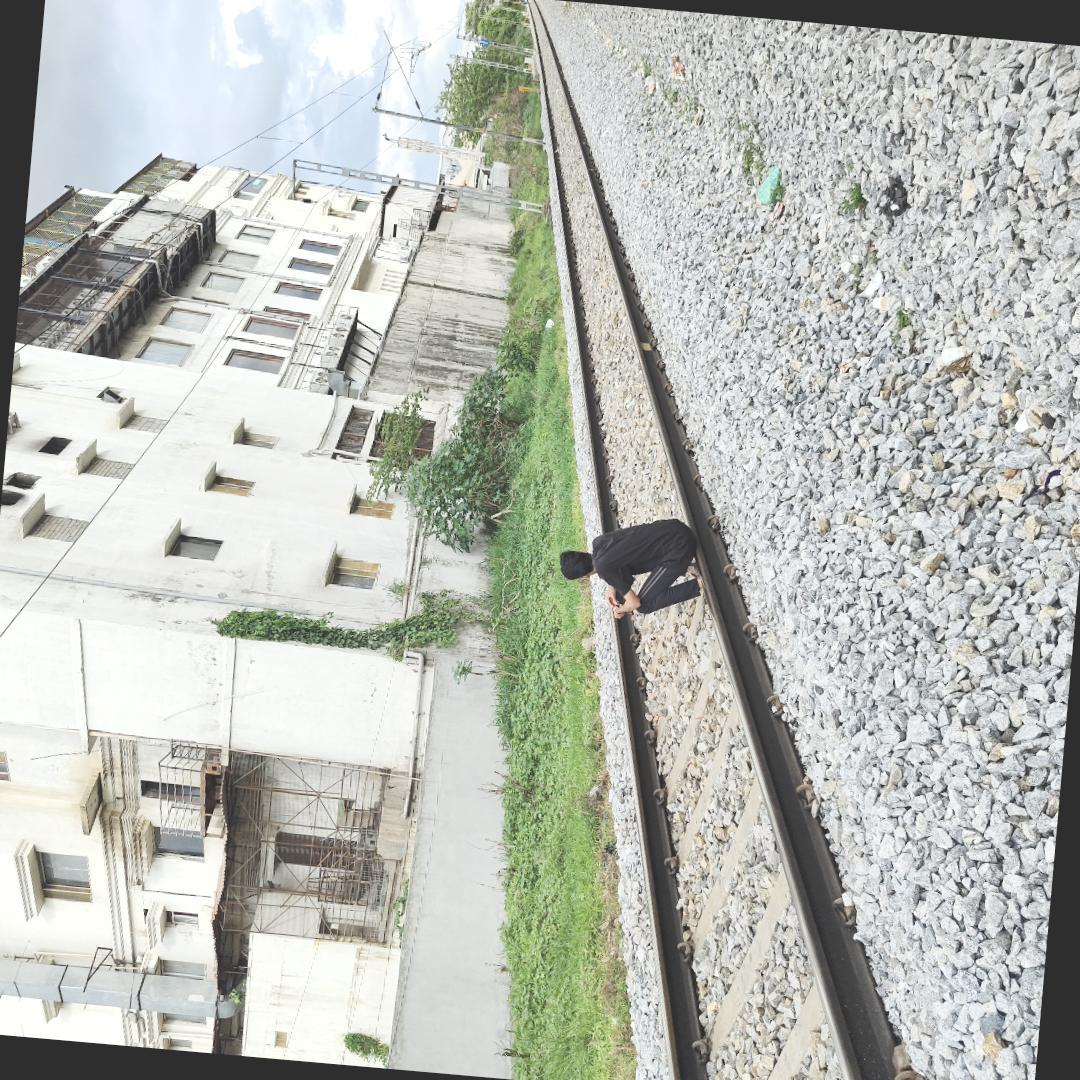sitting: (542, 498, 722, 632)
